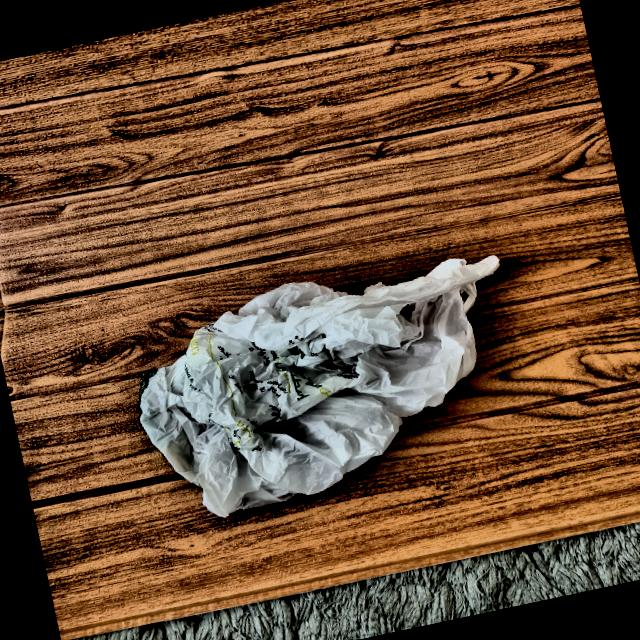plastic bag: (80, 236, 556, 544)
